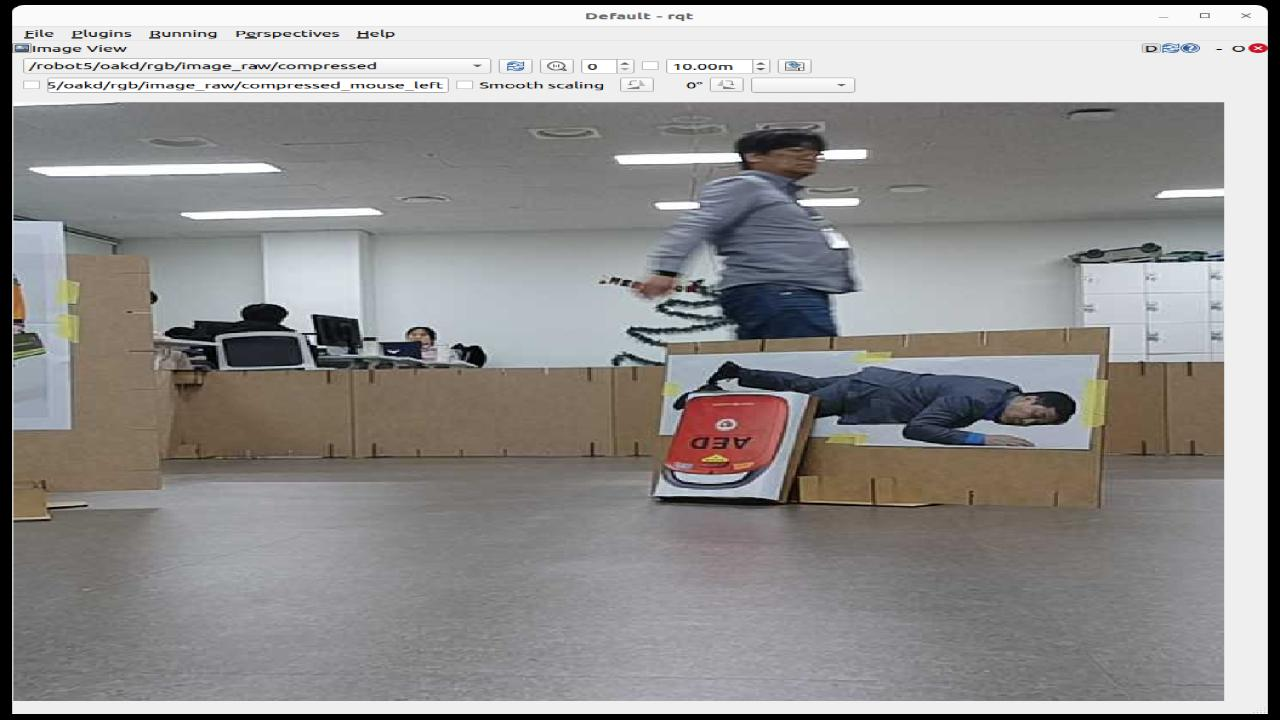AED: (653, 390, 812, 502)
Patient: (700, 362, 1074, 446)
